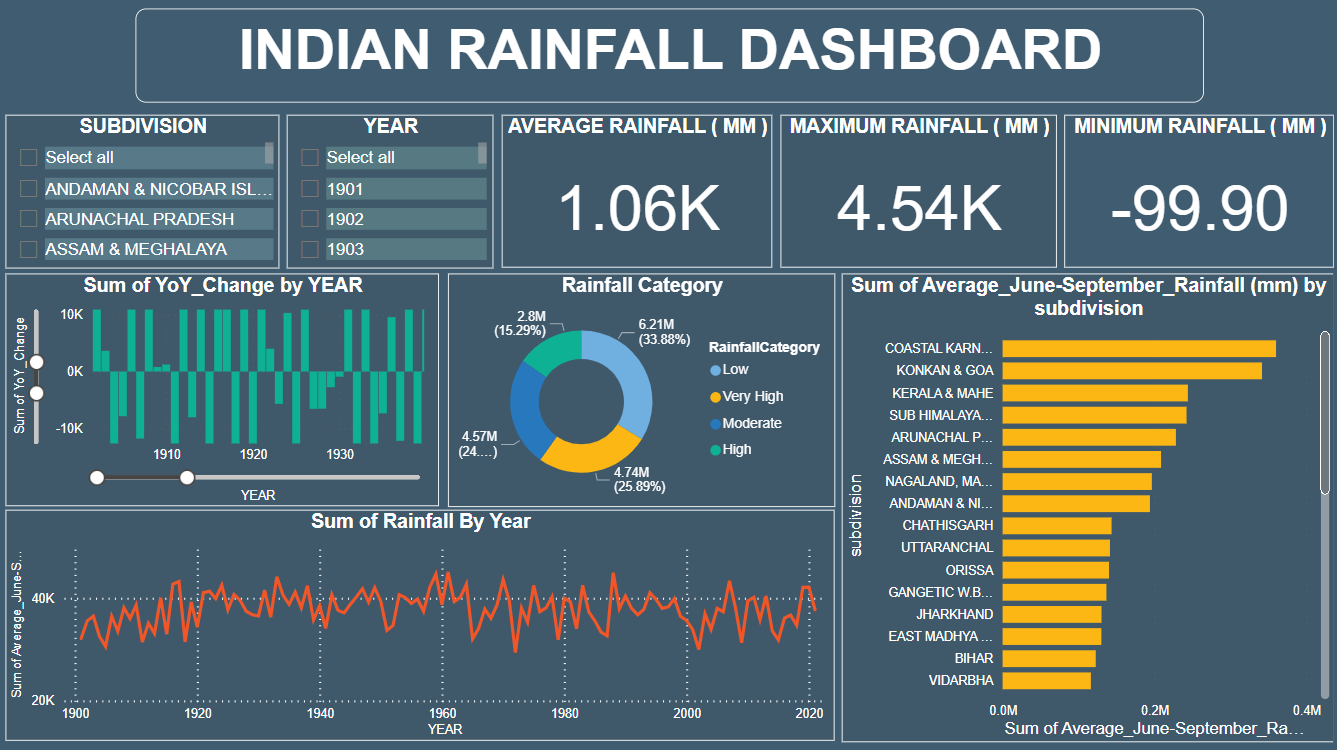

The dashboard page shown, as its layout file describes it:
{"tool":"powerbi","page":{"name":"Page 1","canvas":[1280,720],"ordinal":0},"visuals":[{"type":"slicer","title":"SUBDIVISION","fields":{"Values":["rainfall_full_data.subdivision"]},"box":[7.1,113.1,260.7,146.4],"z":0},{"type":"card","title":"MAXIMUM RAINFALL ( MM )","fields":{"Values":["Max(rainfall_full_data.Total_rainfall (mm))"]},"box":[744.7,112.9,263.5,145.9],"z":1000},{"type":"card","title":"AVERAGE RAINFALL ( MM )","fields":{"Values":["Avg(rainfall_full_data.Total_rainfall (mm))"]},"box":[480,112.9,257.6,145.9],"z":2000},{"type":"card","title":"MINIMUM RAINFALL ( MM )","fields":{"Values":["Min(rainfall_full_data.Total_rainfall (mm))"]},"box":[1015.3,112.9,257.6,145.9],"z":3000},{"type":"textbox","box":[130.9,11.8,1017.6,89.7],"z":4000},{"type":"lineChart","title":"Sum of Rainfall By Year","fields":{"Category":["rainfall_full_data.YEAR"],"Y":["Sum(rainfall_full_data.Average_June-September_Rainfall (mm))"]},"box":[7.1,489.4,789.4,220],"z":5000},{"type":"clusteredBarChart","fields":{"Y":["Sum(rainfall_full_data.Average_June-September_Rainfall (mm))"],"Category":["rainfall_full_data.subdivision"]},"box":[803.8,263.8,468.8,446.2],"z":6000},{"type":"clusteredColumnChart","fields":{"Category":["rainfall_full_data.YEAR"],"Y":["Sum(rainfall_full_data.YoY_Change)"]},"box":[7.5,263.8,412.5,221.2],"z":7000},{"type":"slicer","title":"YEAR","fields":{"Values":["rainfall_full_data.YEAR"]},"box":[275.6,112.8,196.5,146.5],"z":8000},{"type":"donutChart","title":"Rainfall Category","fields":{"Category":["rainfall_full_data.RainfallCategory"],"Y":["Sum(rainfall_full_data.Total_rainfall (mm))"]},"box":[428.8,263.8,368.8,222],"z":9000}]}

Visuals, with their boxes in screenshot pixels (x1, y1, x2, y2), scaled from the page's 1280x720 canvas onto the 1337x750 screenshot:
"SUBDIVISION" slicer: {"x1": 7, "y1": 118, "x2": 280, "y2": 270}
"MAXIMUM RAINFALL ( MM )" card: {"x1": 778, "y1": 118, "x2": 1053, "y2": 270}
"AVERAGE RAINFALL ( MM )" card: {"x1": 501, "y1": 118, "x2": 770, "y2": 270}
"MINIMUM RAINFALL ( MM )" card: {"x1": 1061, "y1": 118, "x2": 1330, "y2": 270}
textbox: {"x1": 137, "y1": 12, "x2": 1200, "y2": 106}
"Sum of Rainfall By Year" lineChart: {"x1": 7, "y1": 510, "x2": 832, "y2": 739}
clusteredBarChart - Sum(rainfall_full_data.Average_June-September_Rainfall (mm)) x rainfall_full_data.subdivision: {"x1": 840, "y1": 275, "x2": 1329, "y2": 740}
clusteredColumnChart - rainfall_full_data.YEAR x Sum(rainfall_full_data.YoY_Change): {"x1": 8, "y1": 275, "x2": 439, "y2": 505}
"YEAR" slicer: {"x1": 288, "y1": 118, "x2": 493, "y2": 270}
"Rainfall Category" donutChart: {"x1": 448, "y1": 275, "x2": 833, "y2": 506}
